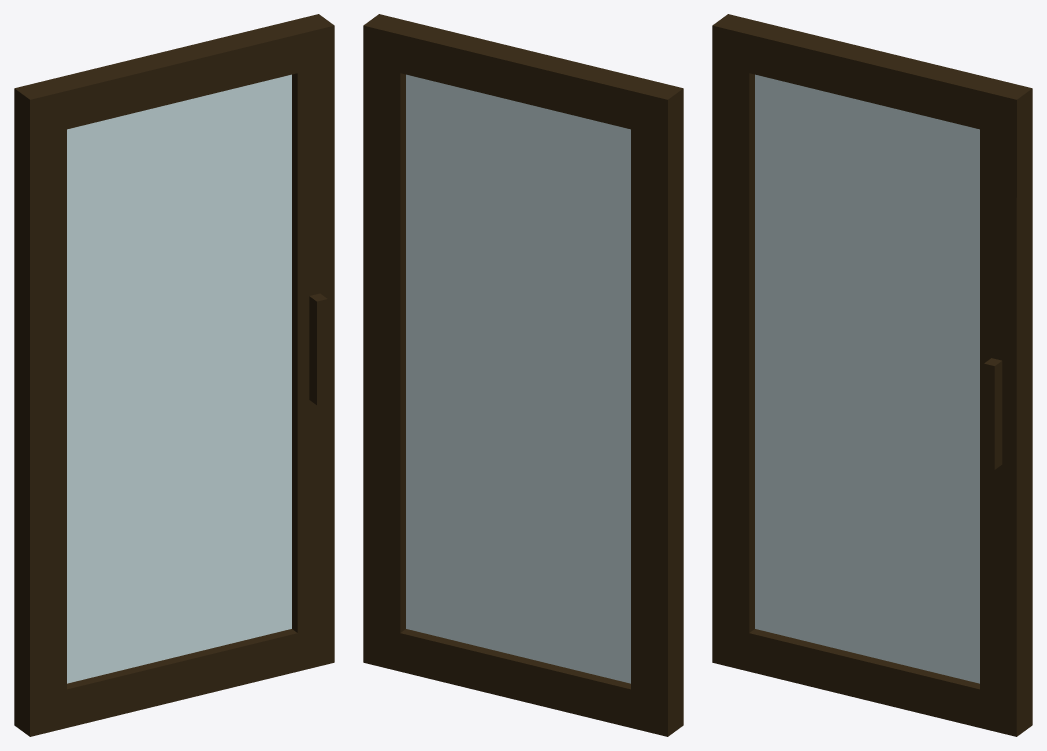
Rendered from Itr_Window_One_Left_02.FBX.
3 views of the same model, side by side, from view 1: azimuth 30°, elevation 25°; view 2: azimuth 150°, elevation 25°; view 3: azimuth 330°, elevation 25° (orthographic).
Visible parts, largest first — view 1: Itr_Window_One_Left_02; view 2: Itr_Window_One_Left_02; view 3: Itr_Window_One_Left_02.
Boxes of the visible parts, x1=… form: Itr_Window_One_Left_02: x1=14, y1=14, x2=334, y2=736; Itr_Window_One_Left_02: x1=363, y1=14, x2=683, y2=736; Itr_Window_One_Left_02: x1=712, y1=14, x2=1032, y2=736.
Bounding box in the file's own units: 32.64 × 65.27 × 4.34.
